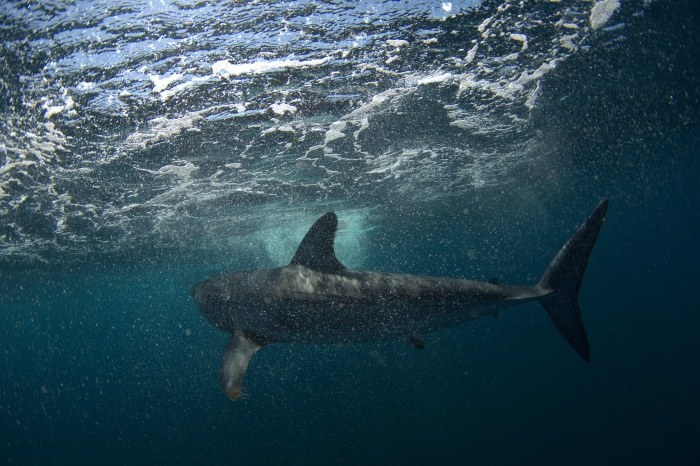Mako: (183, 189, 622, 409)
